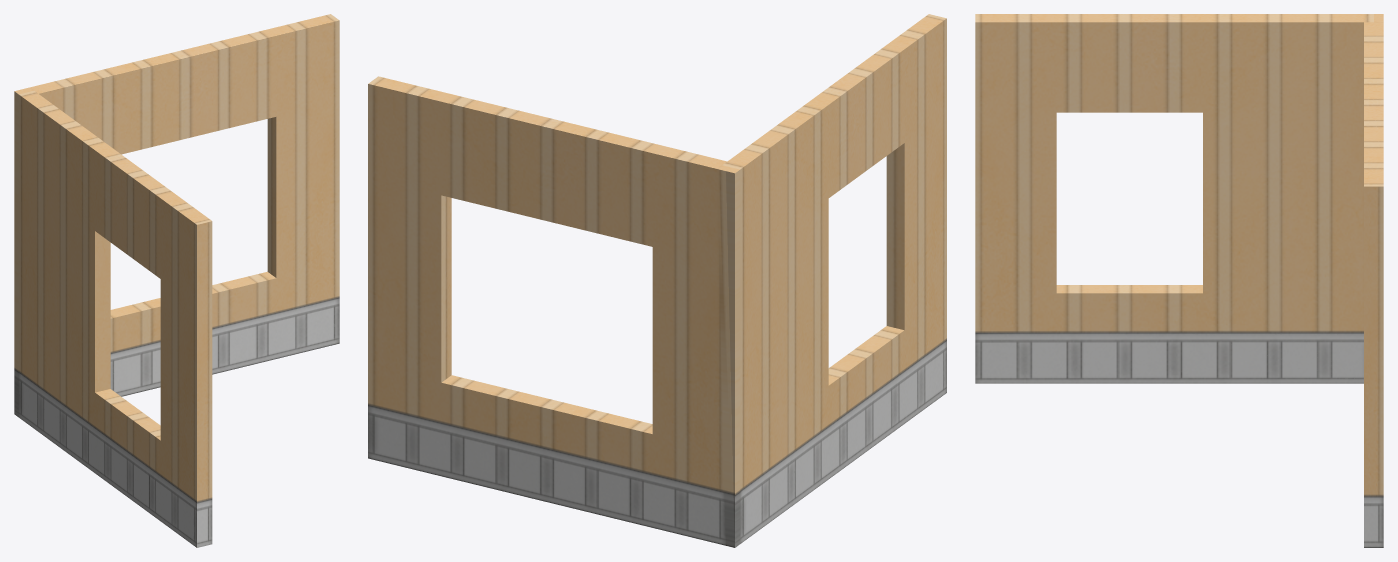
The model's file is Wall_8_Corner_G.fbx.
3 views of the same model, side by side, from view 1: azimuth 30°, elevation 25°; view 2: azimuth 150°, elevation 25°; view 3: azimuth 270°, elevation 25° (orthographic). The views are drawn at different scales.
Parts seen in each view (by area): view 1: polySurface64; view 2: polySurface64; view 3: polySurface64.
Boxes of the visible parts, left/top/right/bottom form: polySurface64: left=14, top=14, right=339, bottom=547; polySurface64: left=368, top=14, right=946, bottom=547; polySurface64: left=975, top=14, right=1383, bottom=547.
Bounding box in the file's own units: 4.1 × 4 × 4.1.
